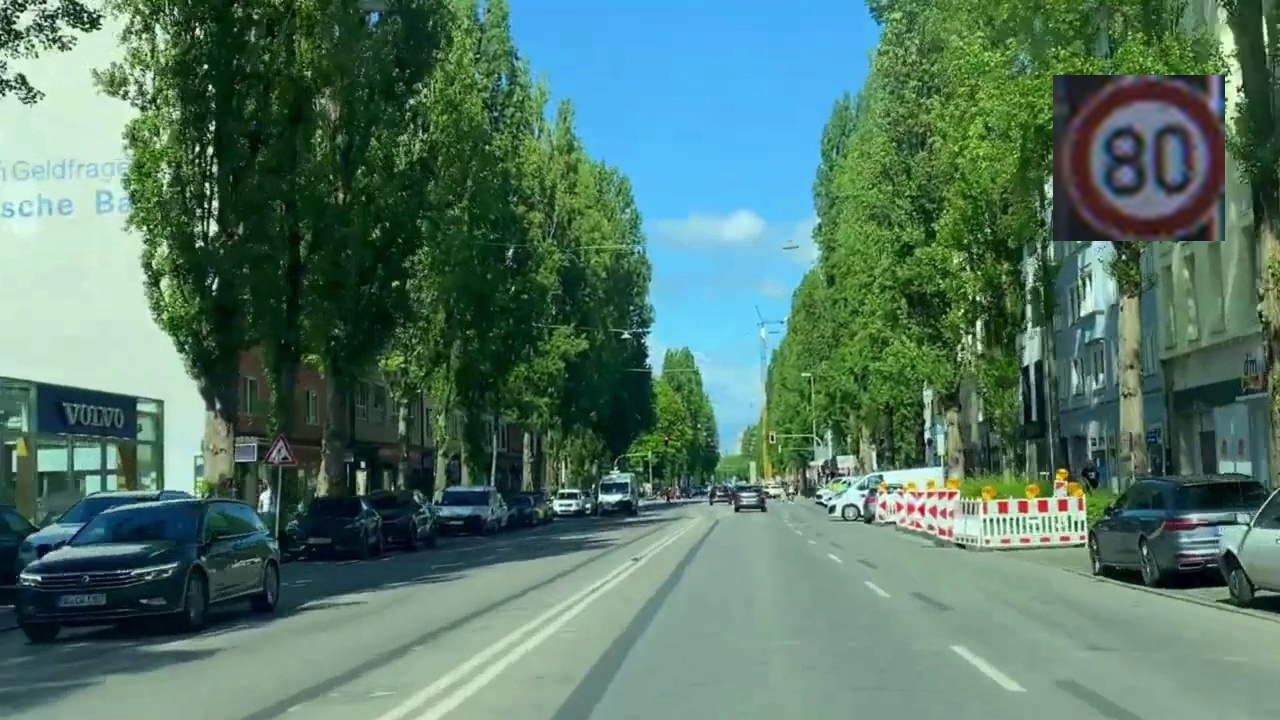Speed 80: (1053, 75, 1225, 241)
